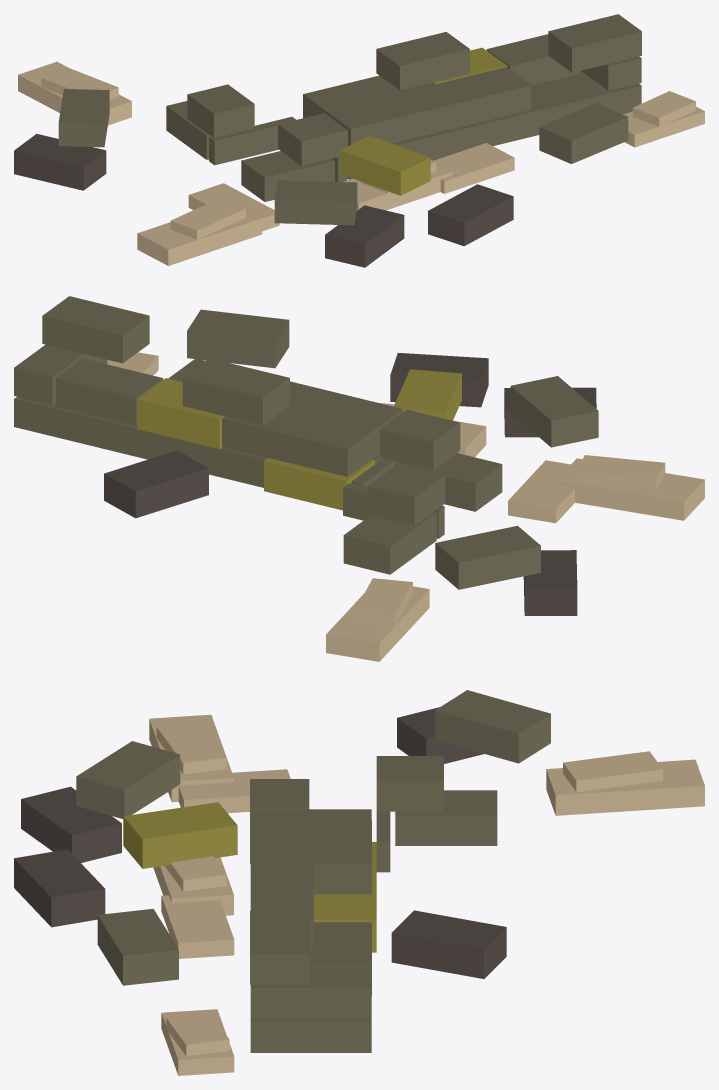
File: SM_SacosRemate_v2_Irregular_e2_MuyDanado_LOD1.fbx
3 renders of one model, top to bottom at view 1: azimuth 30°, elevation 25°; view 2: azimuth 150°, elevation 25°; view 3: azimuth 270°, elevation 25°, orthographic. The views are drawn at different scales.
Parts seen in each view (by area): view 1: SM_sacos_piezas_v30_LOD1; view 2: SM_sacos_piezas_v30_LOD1; view 3: SM_sacos_piezas_v30_LOD1.
Part boxes in pixels (x1,y1,x2,y2): SM_sacos_piezas_v30_LOD1: (14,14,704,267); SM_sacos_piezas_v30_LOD1: (14,296,704,661); SM_sacos_piezas_v30_LOD1: (14,690,704,1075).
Bounding box in the file's own units: 6.58 × 0.885 × 5.49.
